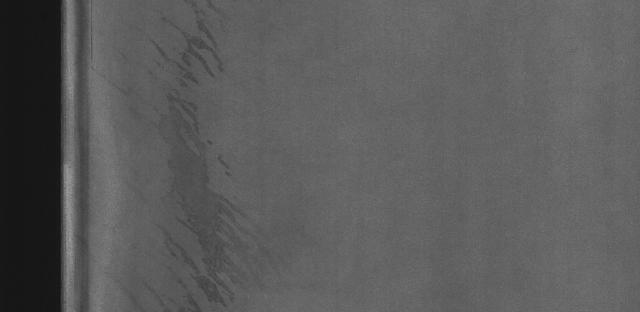water_spot: (131, 5, 256, 312)
